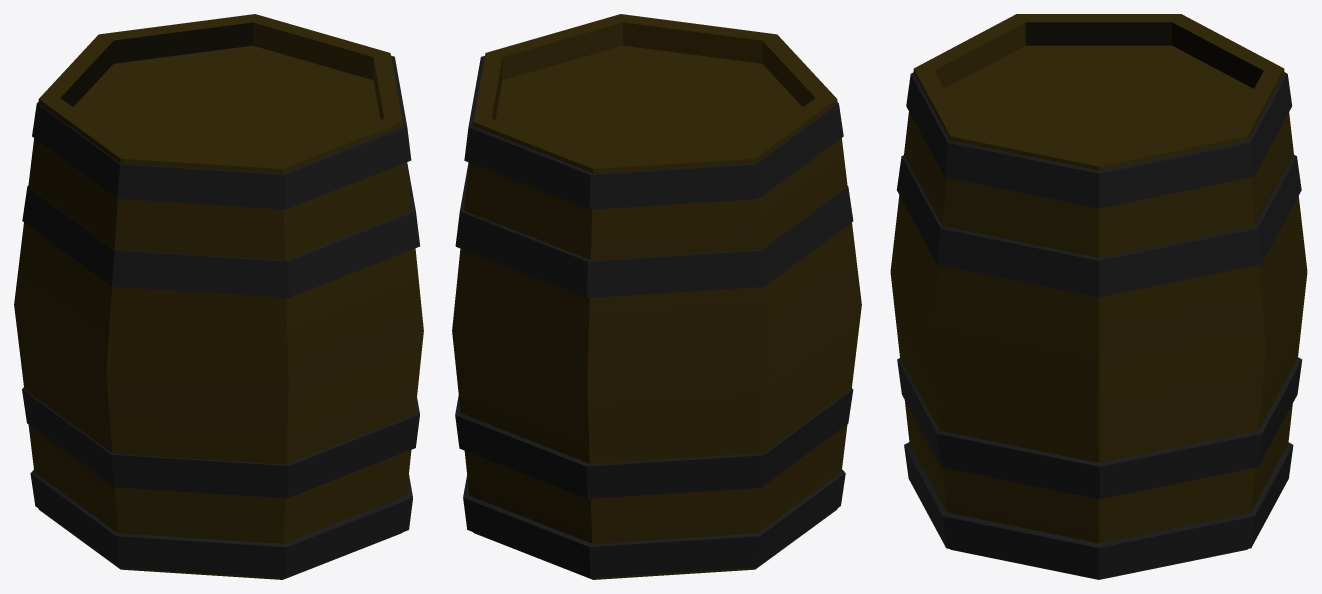
File: Barrel.fbx
3 renders of one model, left to right at view 1: azimuth 30°, elevation 25°; view 2: azimuth 150°, elevation 25°; view 3: azimuth 270°, elevation 25°, orthographic.
Parts seen in each view (by area): view 1: polySurface10; view 2: polySurface10; view 3: polySurface10.
Boxes of the visible parts, box(x1,y1,x2,y2) form: polySurface10: box(14, 14, 423, 579); polySurface10: box(452, 14, 861, 579); polySurface10: box(890, 14, 1307, 579).
Size of the model in its own units: 0.7254 by 0.8164 by 0.744.
